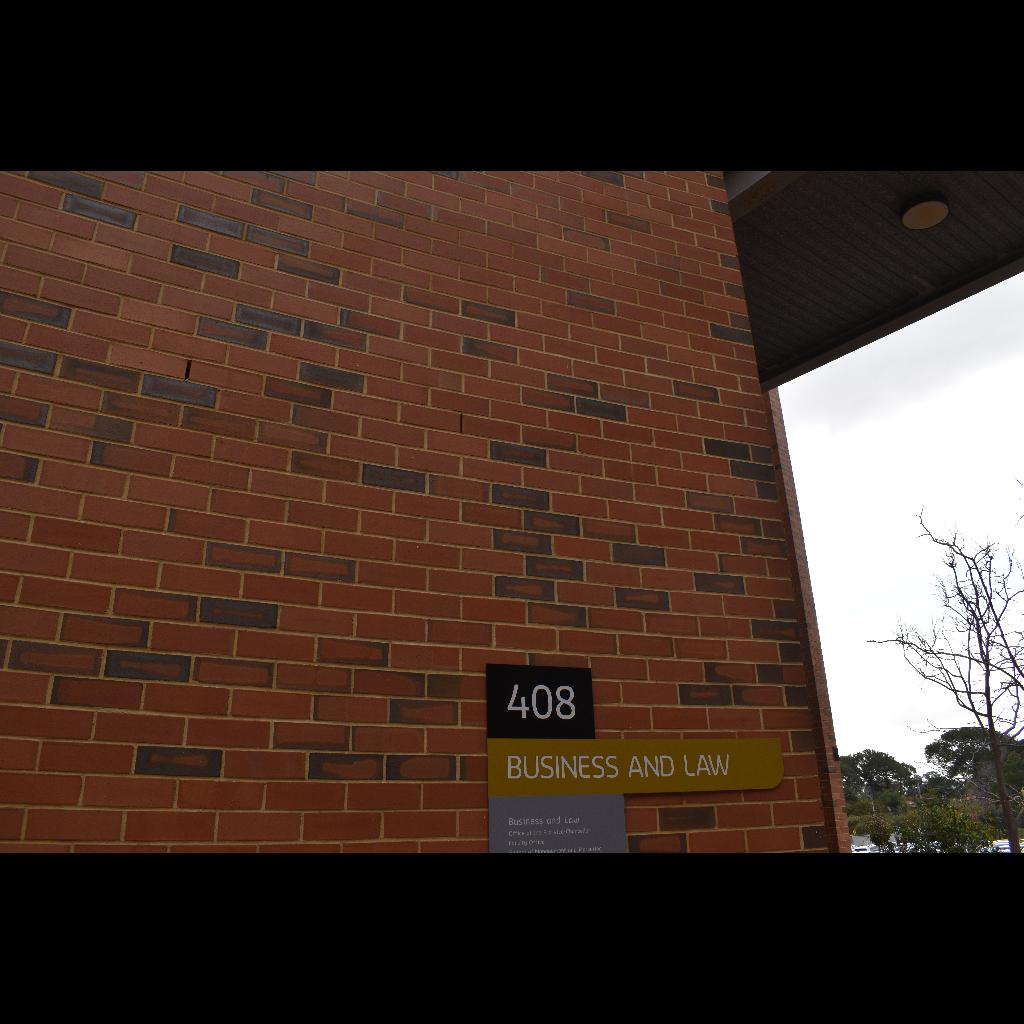BuildingCodes: (506, 684, 576, 724)
